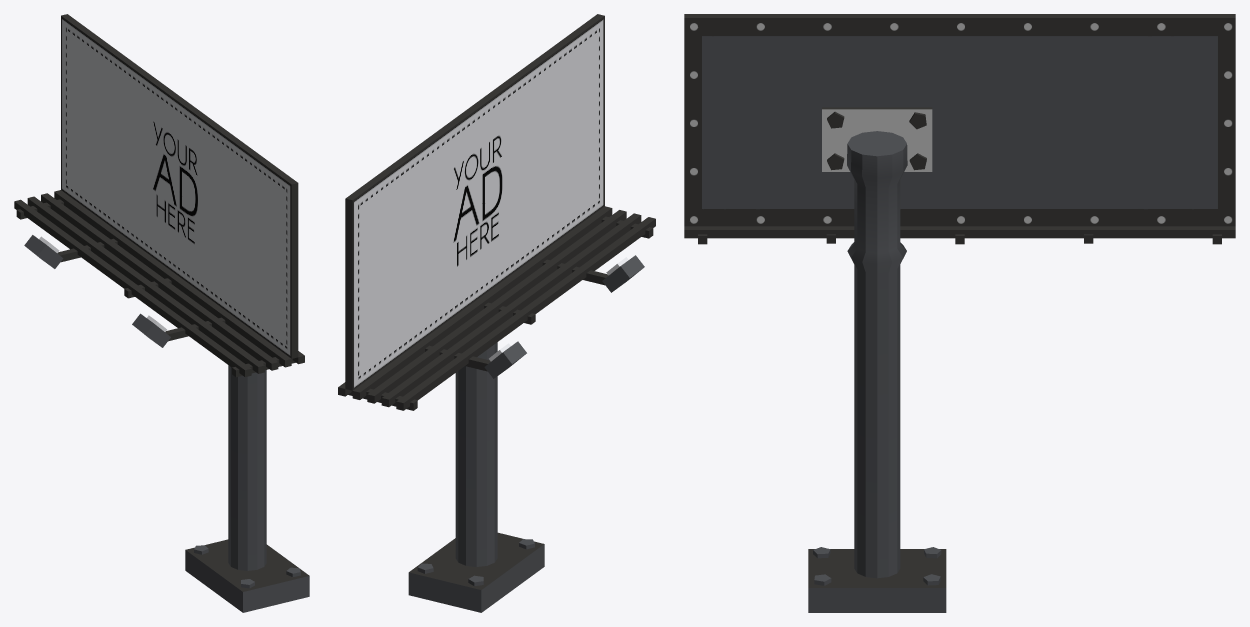
3 views of the same model, side by side, from view 1: azimuth 30°, elevation 25°; view 2: azimuth 150°, elevation 25°; view 3: azimuth 270°, elevation 25° (orthographic). The views are drawn at different scales.
Visible parts, largest first — view 1: Billboard1; view 2: Billboard1; view 3: Billboard1.
Boxes of the visible parts, <box> form: Billboard1: <box>14,14,309,612</box>; Billboard1: <box>338,14,655,612</box>; Billboard1: <box>684,14,1235,612</box>.
Size of the model in its own units: 242 by 670 by 600.
Materials: 1 (1 with a texture image).
